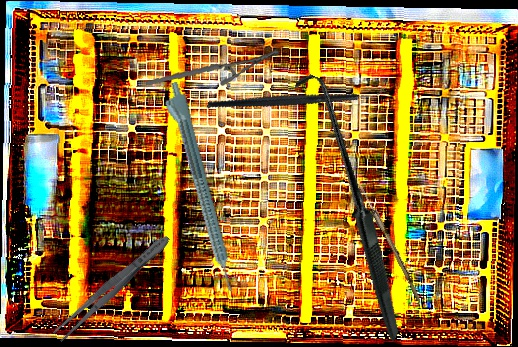Chopper: (206, 35, 388, 158)
Dressing Forceps: (50, 230, 175, 345)
Handpiece: (158, 80, 238, 296)
Hook Surgical: (216, 70, 480, 342)
Needle Holder: (145, 35, 280, 99)
Surgical Spoon: (352, 176, 425, 303)
